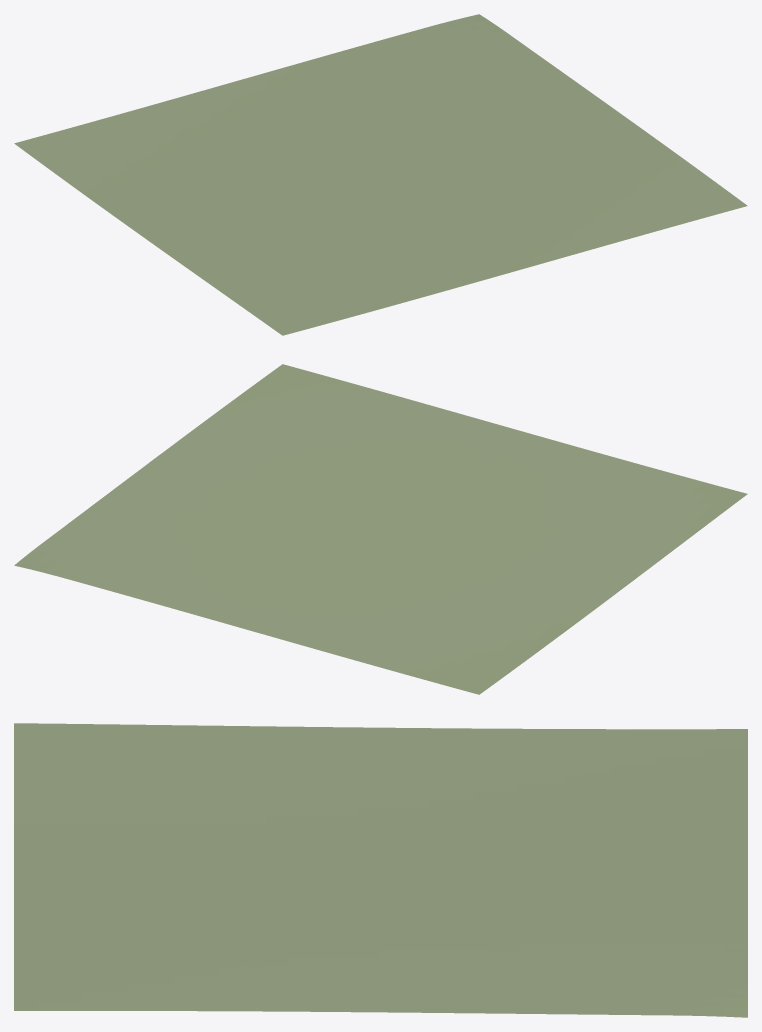
Rendered from expanse-21-4.glb.
3 renders of one model, top to bottom at view 1: azimuth 30°, elevation 25°; view 2: azimuth 150°, elevation 25°; view 3: azimuth 270°, elevation 25°, orthographic. The views are drawn at different scales.
Parts seen in each view (by area): view 1: expanse-21-4; view 2: expanse-21-4; view 3: expanse-21-4.
Boxes of the visible parts, x1,y1,x2,y2 form: expanse-21-4: (14, 14, 747, 335); expanse-21-4: (14, 364, 747, 694); expanse-21-4: (14, 723, 747, 1017).
Bounding box in the file's own units: 256 × 10.95 × 256.
